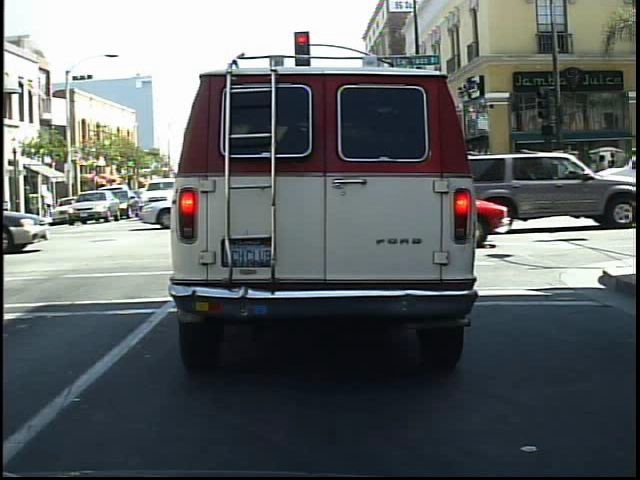person: (600, 142, 624, 209), (538, 151, 562, 209), (513, 156, 535, 207)
